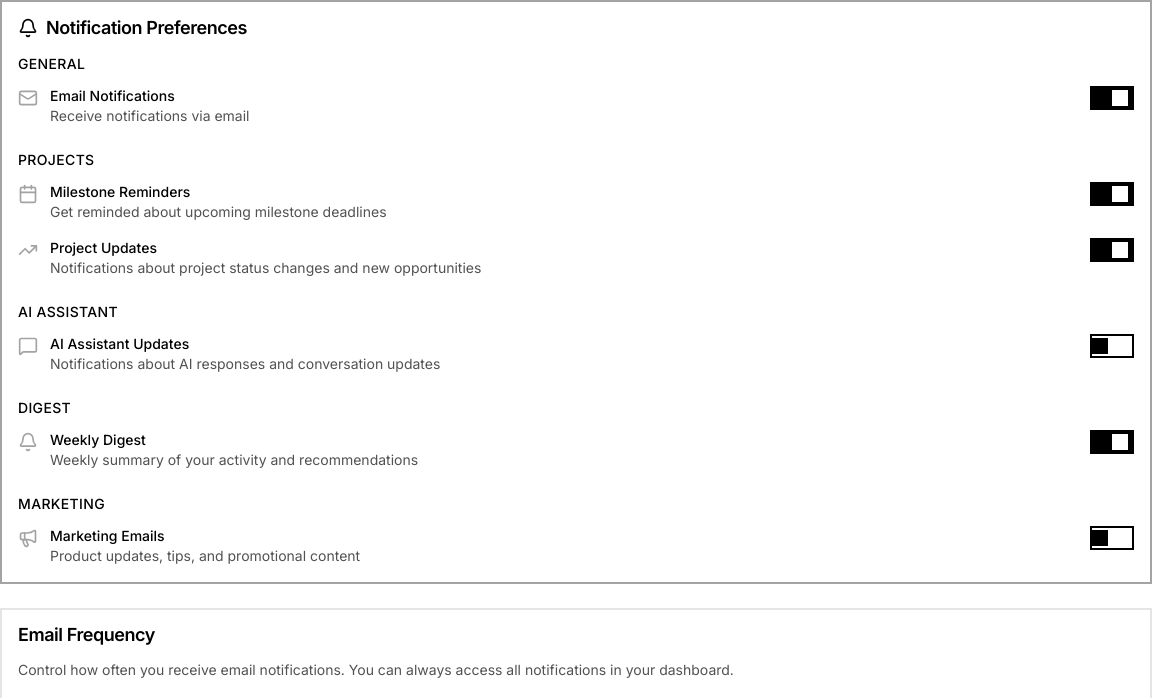
NotificationSettings › allows toggling notification preferences
The image size is (1152, 698).
Click the switch in the row of "AI Assistant Updates": coordinates (1112, 346) left=1090, top=334, right=1134, bottom=358
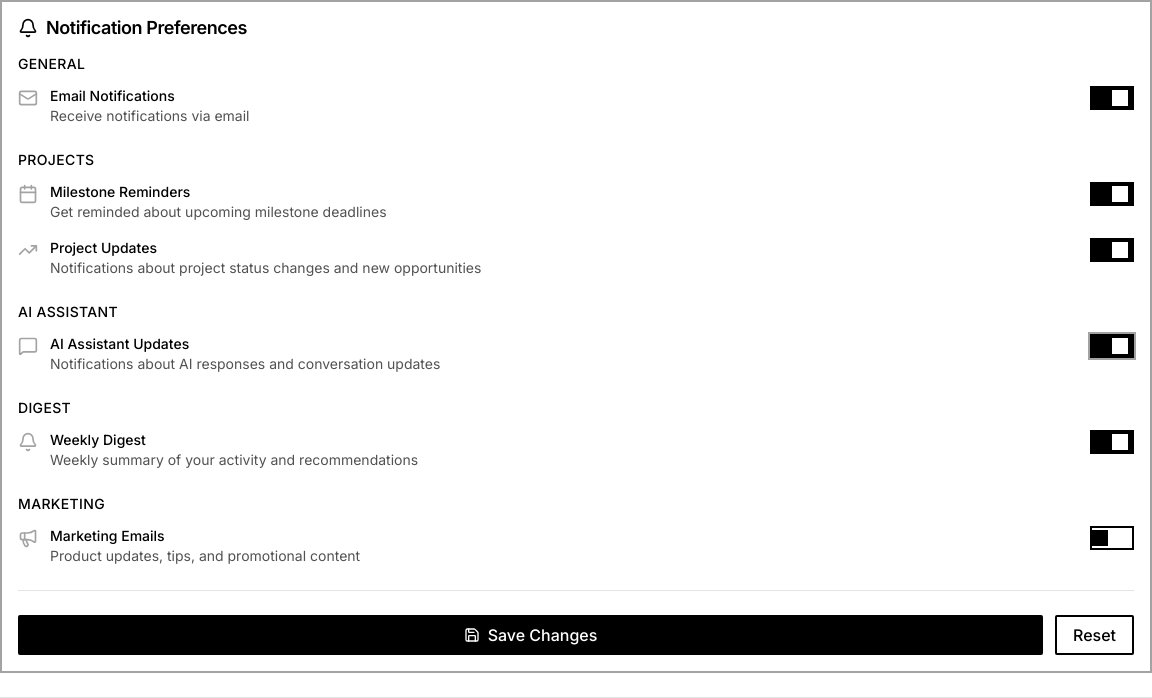
Now the button "Save Changes" is shown, box left=18, top=615, right=1043, bottom=655
